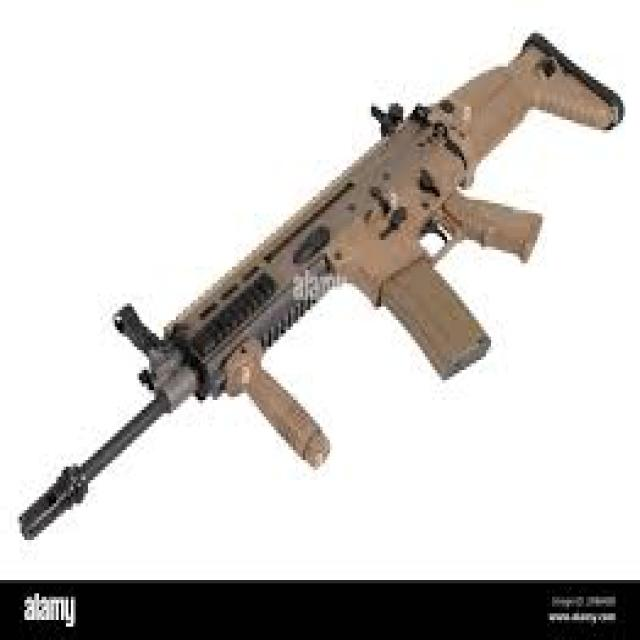Gun: (10, 24, 640, 559)
